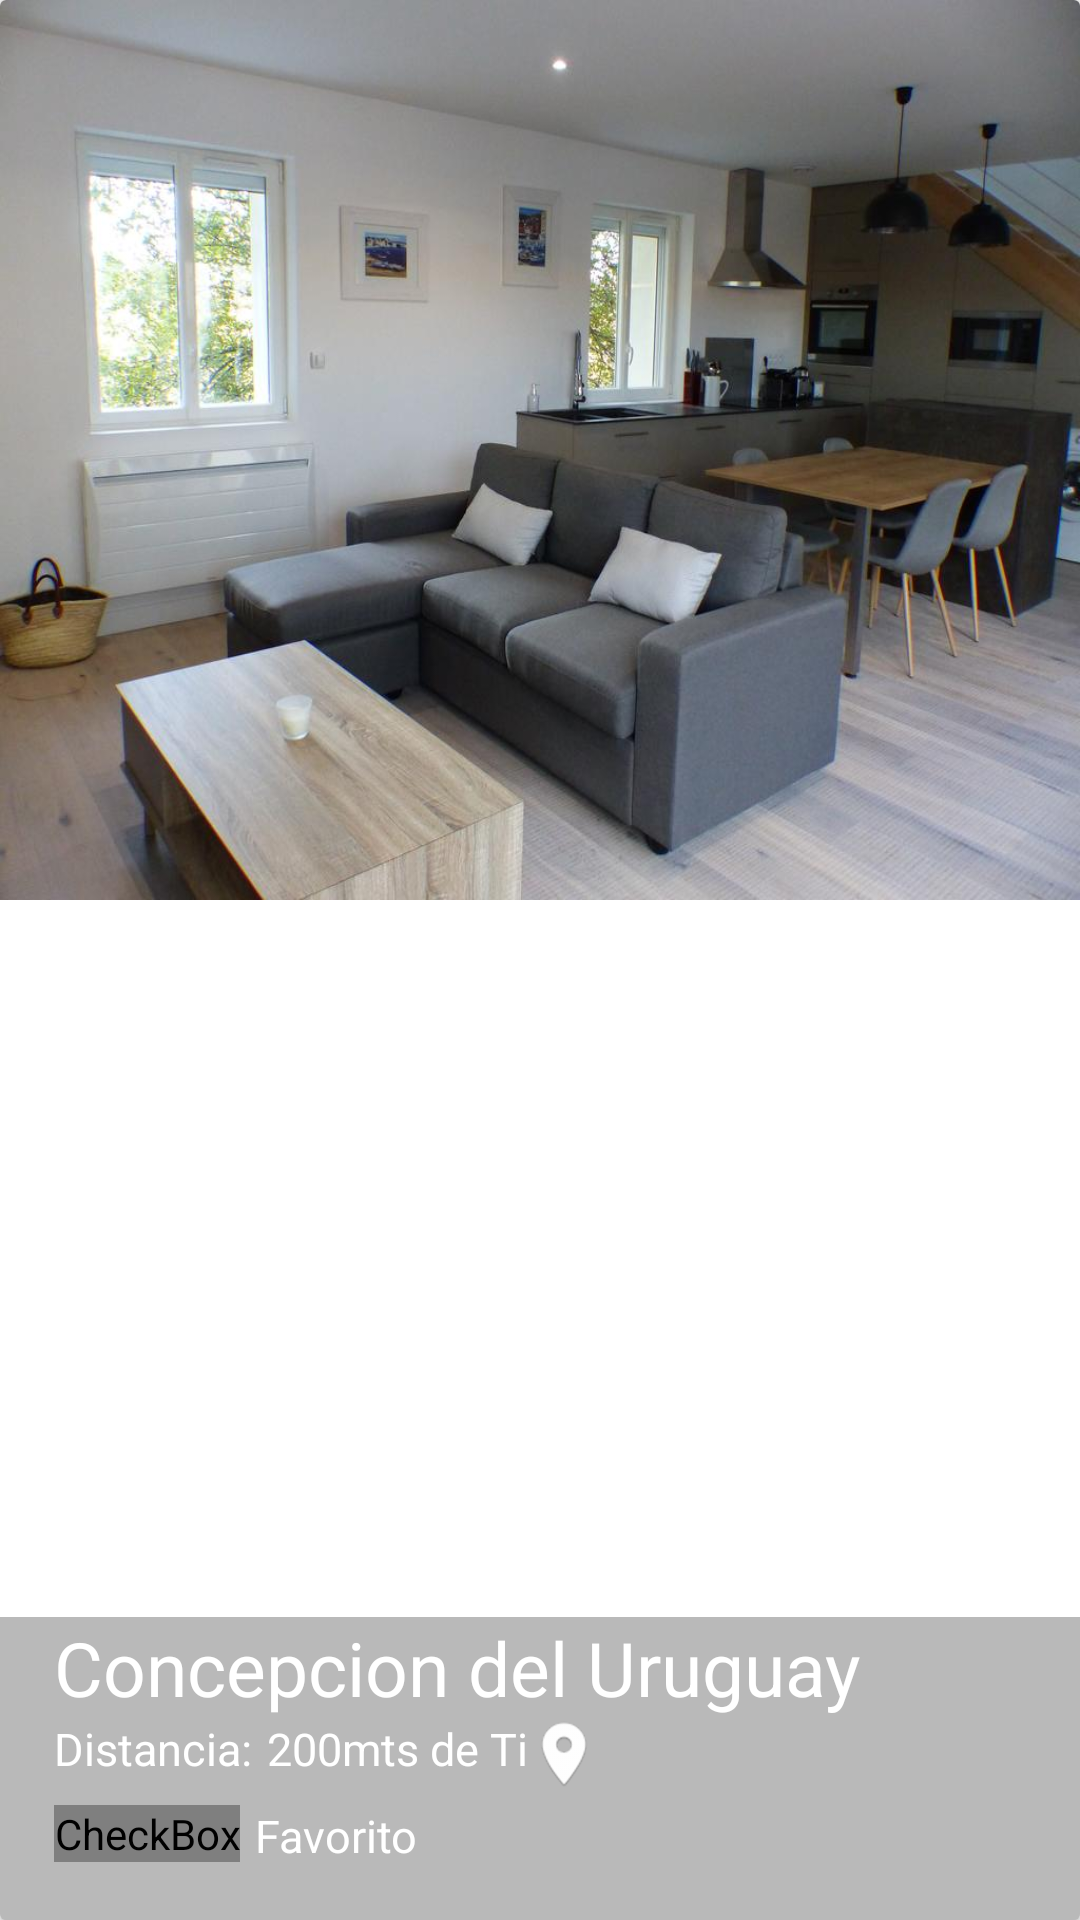

Locate icon controls on the screen. Image size 1080px×1920px, boxes as (x1, y1, x2, y2).
marcador: (543, 1723, 585, 1784)
